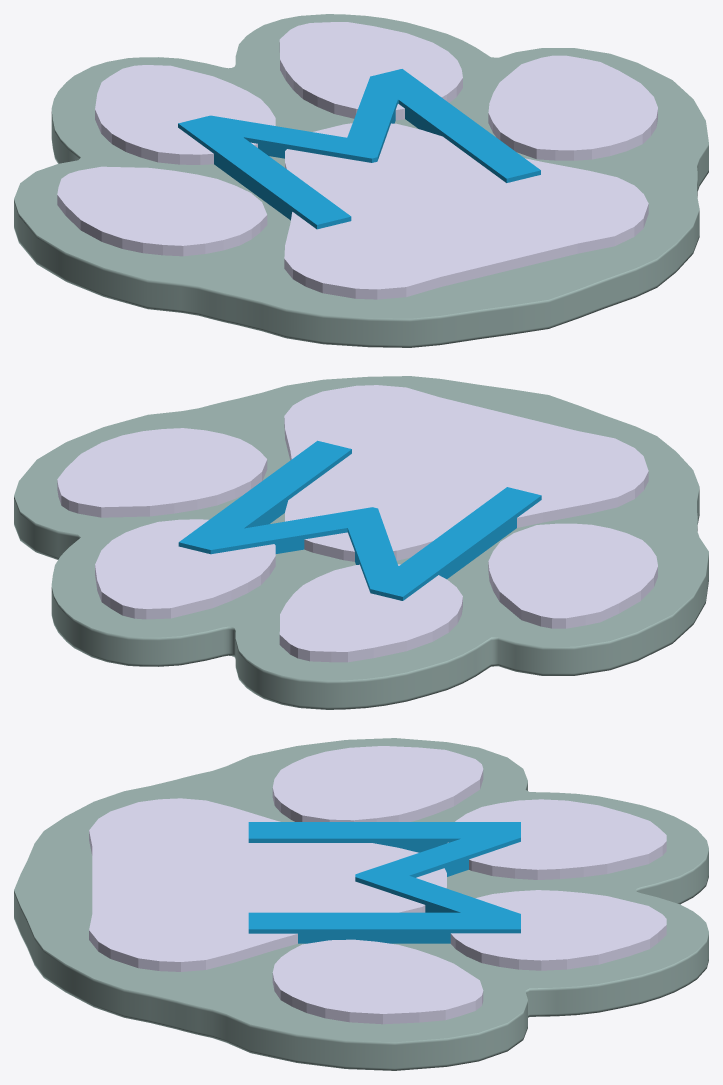
File: Blue_Paw.fbx
3 views of the same model, one above another, from view 1: azimuth 30°, elevation 25°; view 2: azimuth 150°, elevation 25°; view 3: azimuth 270°, elevation 25° (orthographic).
Visible parts, largest first — view 1: Base_Paw.042; view 2: Base_Paw.042; view 3: Base_Paw.042.
Part boxes in pixels (x1,y1,x2,y2): Base_Paw.042: (14, 14, 708, 347); Base_Paw.042: (14, 376, 708, 709); Base_Paw.042: (14, 738, 708, 1070).
Size of the model in its own units: 180 by 11.87 by 174.
